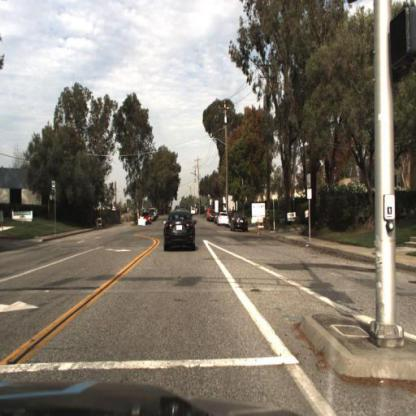car: (162, 206, 199, 253), (229, 208, 249, 233), (216, 208, 232, 230), (232, 214, 249, 234), (140, 209, 153, 230), (219, 211, 231, 228)
